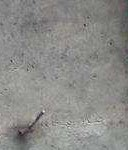Exposed reinforcement: (27, 109, 47, 131)
